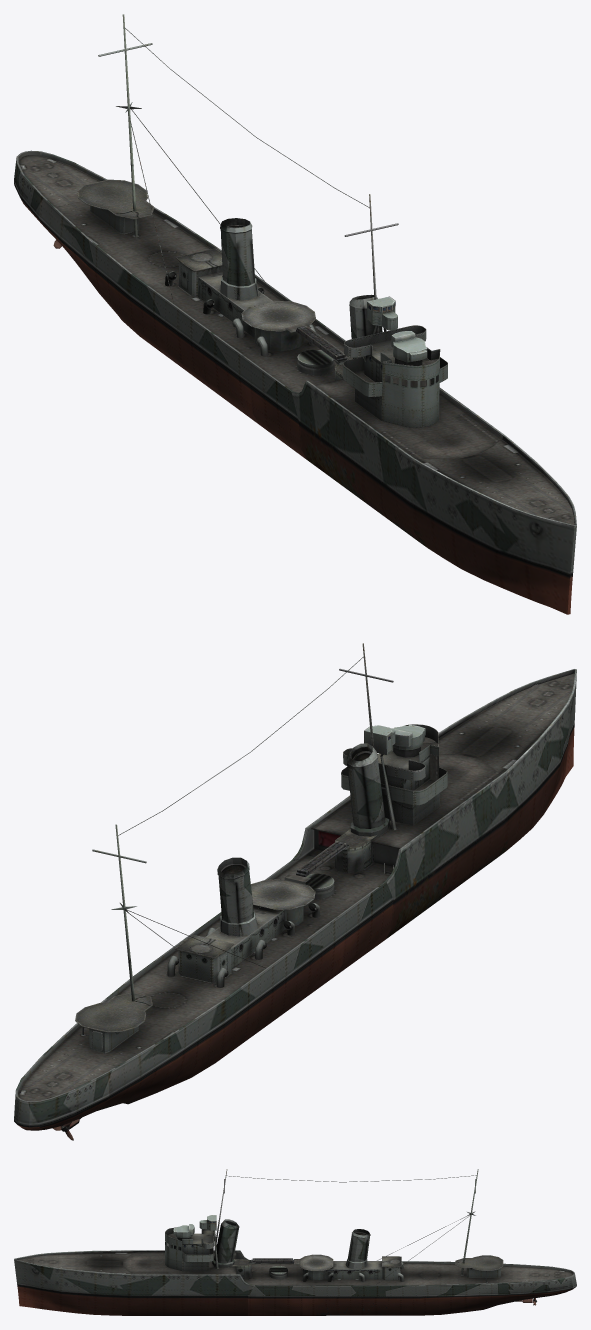
File: Ship_3.FBX
3 renders of one model, top to bottom at view 1: azimuth 30°, elevation 25°; view 2: azimuth 150°, elevation 25°; view 3: azimuth 270°, elevation 25°, orthographic. The views are drawn at different scales.
Visible parts, largest first — view 1: Ship_3; view 2: Ship_3; view 3: Ship_3.
Boxes of the visible parts, bbox=[...] form: Ship_3: bbox=[14, 14, 576, 614]; Ship_3: bbox=[14, 643, 576, 1140]; Ship_3: bbox=[14, 1169, 576, 1315].
Bounding box in the file's own units: 8.99 × 24.52 × 90.09.
1 material, 1 textured.
